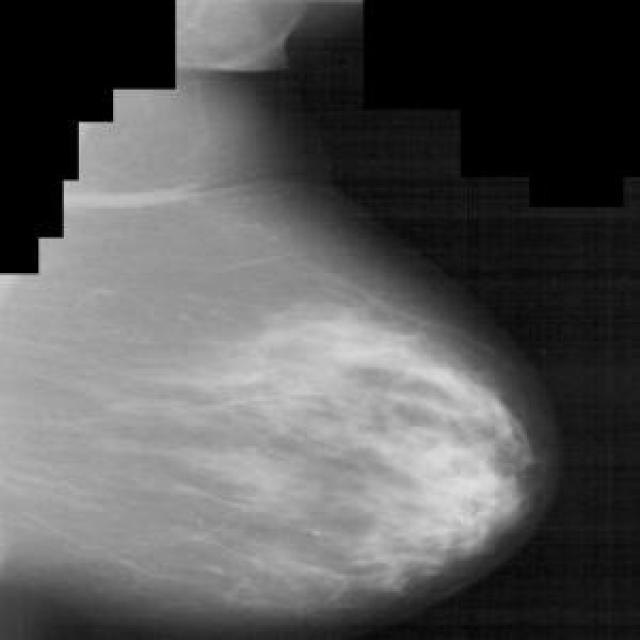tumor: (345, 340, 510, 582)
